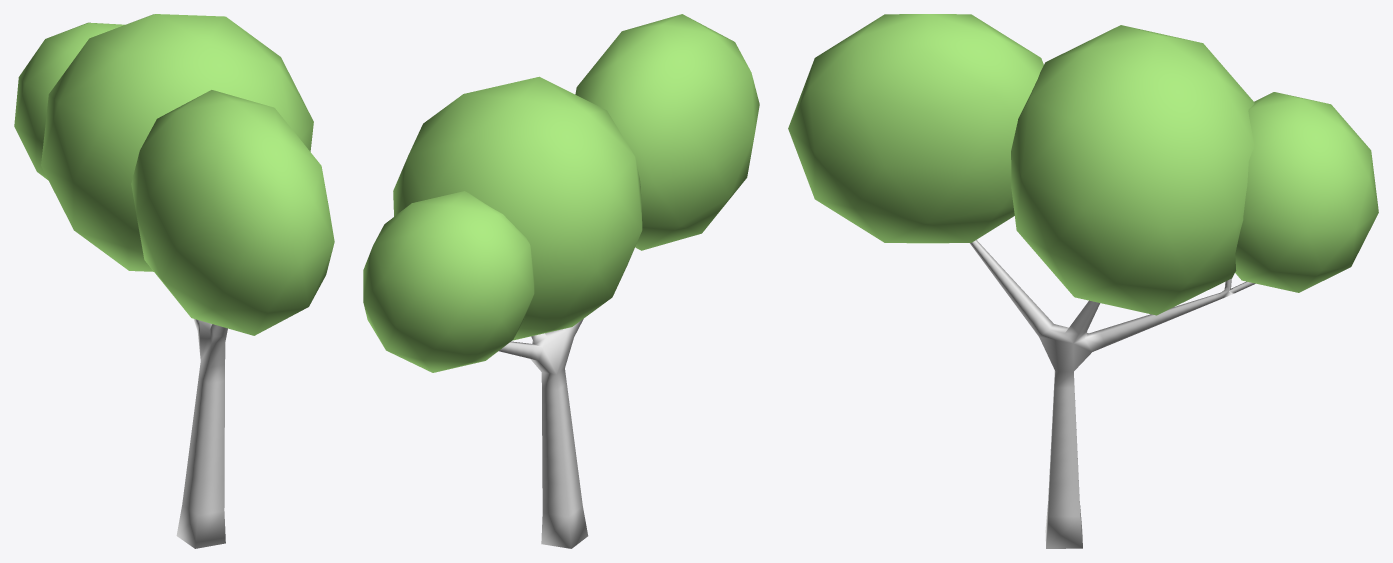
Rendered from tree_01.fbx.
3 renders of one model, left to right at view 1: azimuth 30°, elevation 25°; view 2: azimuth 150°, elevation 25°; view 3: azimuth 270°, elevation 25°, orthographic. The views are drawn at different scales.
Visible parts, largest first — view 1: Icosphere.002, Cube; view 2: Icosphere.002, Cube; view 3: Icosphere.002, Cube.
Part boxes in pixels (bbox=[...]): Icosphere.002: bbox=[14, 14, 334, 335]; Cube: bbox=[176, 319, 227, 548]; Icosphere.002: bbox=[363, 14, 759, 372]; Cube: bbox=[498, 319, 588, 548]; Icosphere.002: bbox=[788, 14, 1378, 315]; Cube: bbox=[970, 240, 1255, 548].
Bounding box in the file's own units: 117 × 231 × 243.
